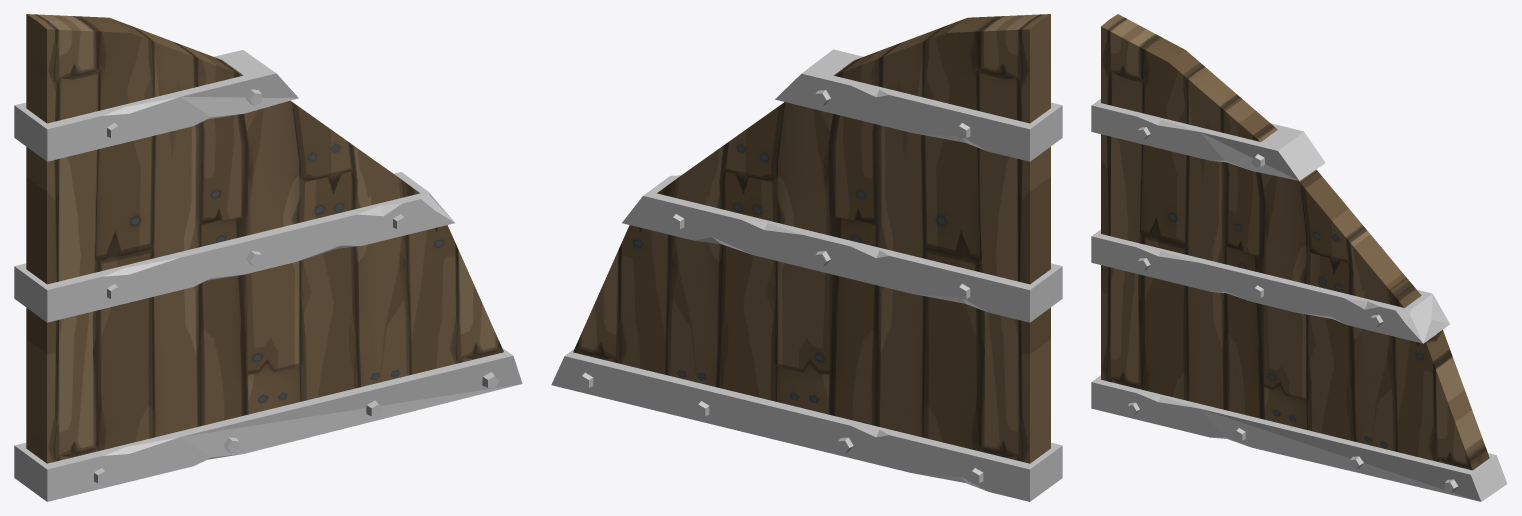
File: SM_Bld_House_Roof_Wall_End_Curved_02.fbx
3 views of the same model, side by side, from view 1: azimuth 30°, elevation 25°; view 2: azimuth 150°, elevation 25°; view 3: azimuth 330°, elevation 25° (orthographic). The views are drawn at different scales.
Parts seen in each view (by area): view 1: SM_Bld_House_Roof_Wall_End_Curved_02; view 2: SM_Bld_House_Roof_Wall_End_Curved_02; view 3: SM_Bld_House_Roof_Wall_End_Curved_02.
Boxes of the visible parts, left/top/right/bottom form: SM_Bld_House_Roof_Wall_End_Curved_02: left=14, top=14, right=522, bottom=501; SM_Bld_House_Roof_Wall_End_Curved_02: left=551, top=14, right=1062, bottom=501; SM_Bld_House_Roof_Wall_End_Curved_02: left=1091, top=14, right=1507, bottom=501.
Size of the model in its own units: 297 by 278 by 42.5.
